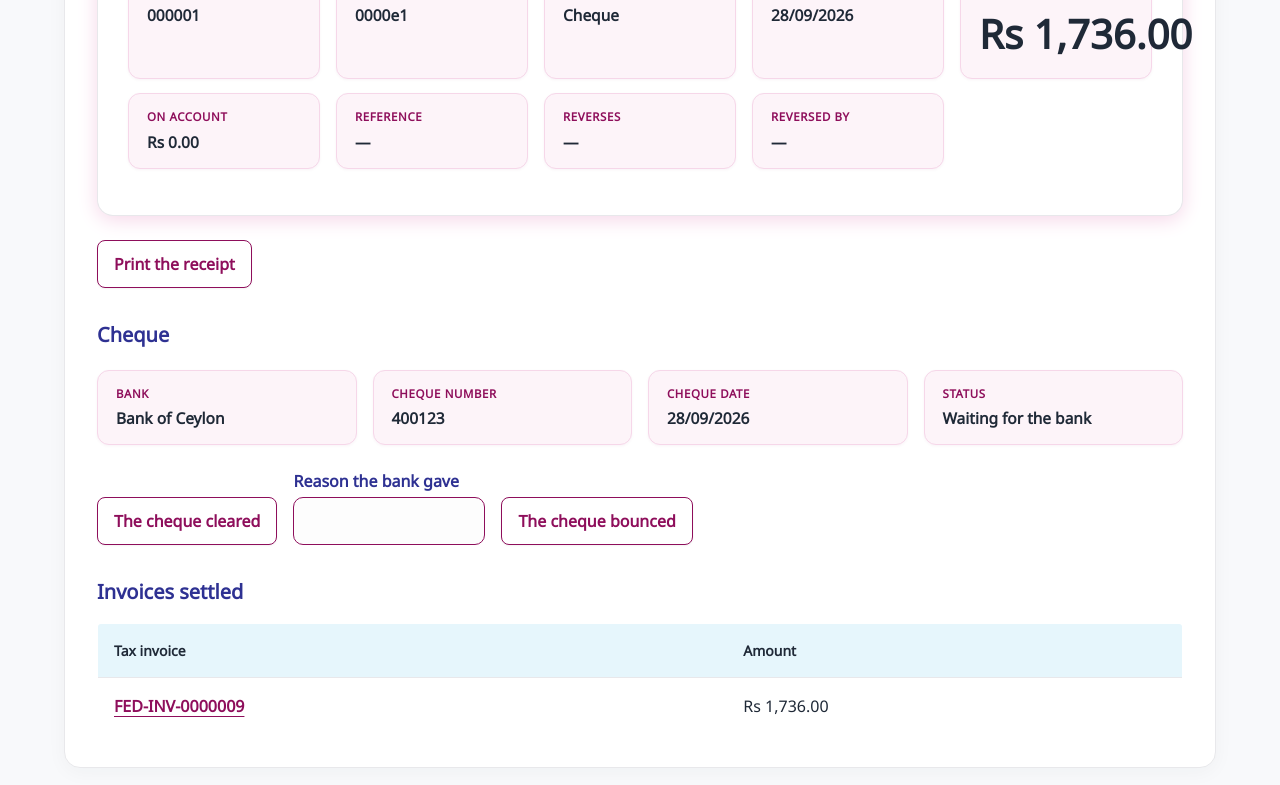
Test case: the payment receipt › lets the seller's accounts record that the cheque bounced, and then shows the reversal
The image size is (1280, 785).
(page scrolled)
Expected: the link "FED-INV-0000009" is shown, [114,695,244,717]
Type "Refer to drawer" into the field labelled "Reason the bank gave". click: (389, 521)
box: [293,497,485,545]
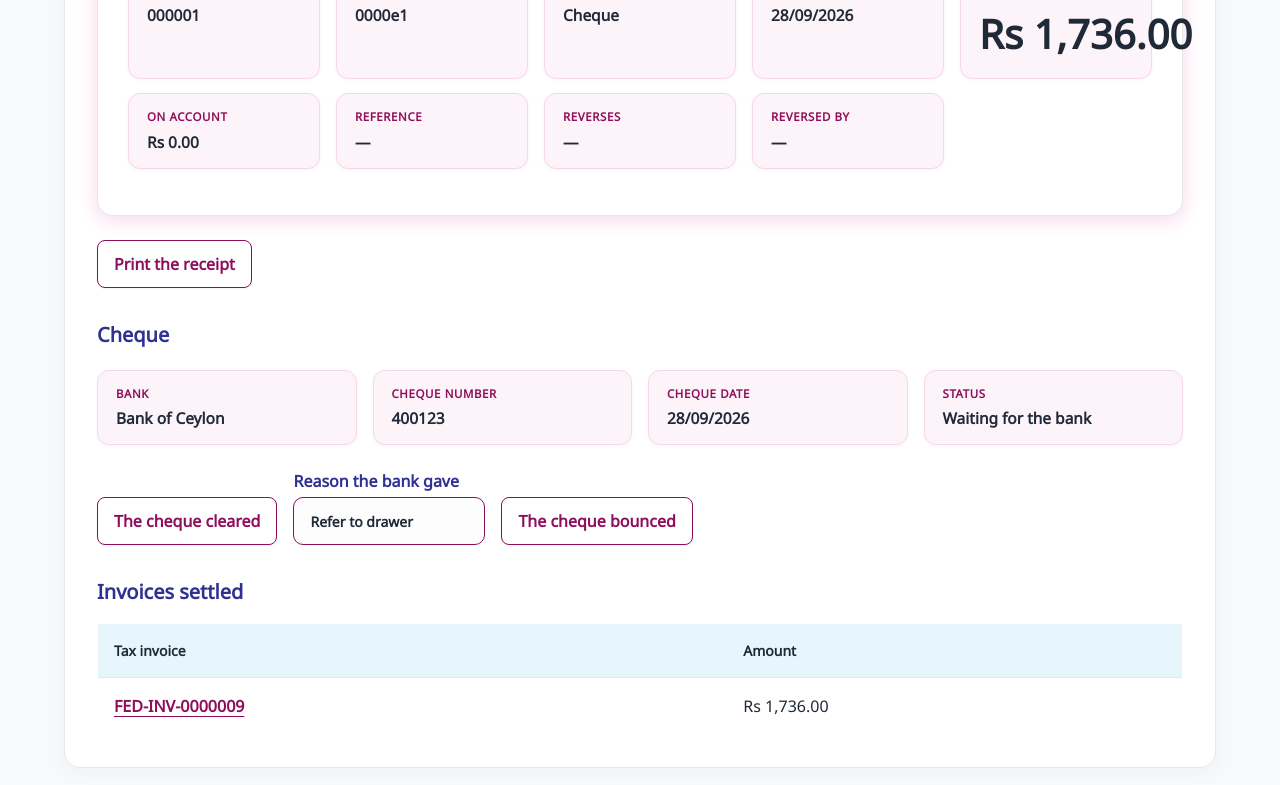
Click the button "The cheque bounced". click: (597, 521)
box: [501,497,693,545]
(page scrolled)
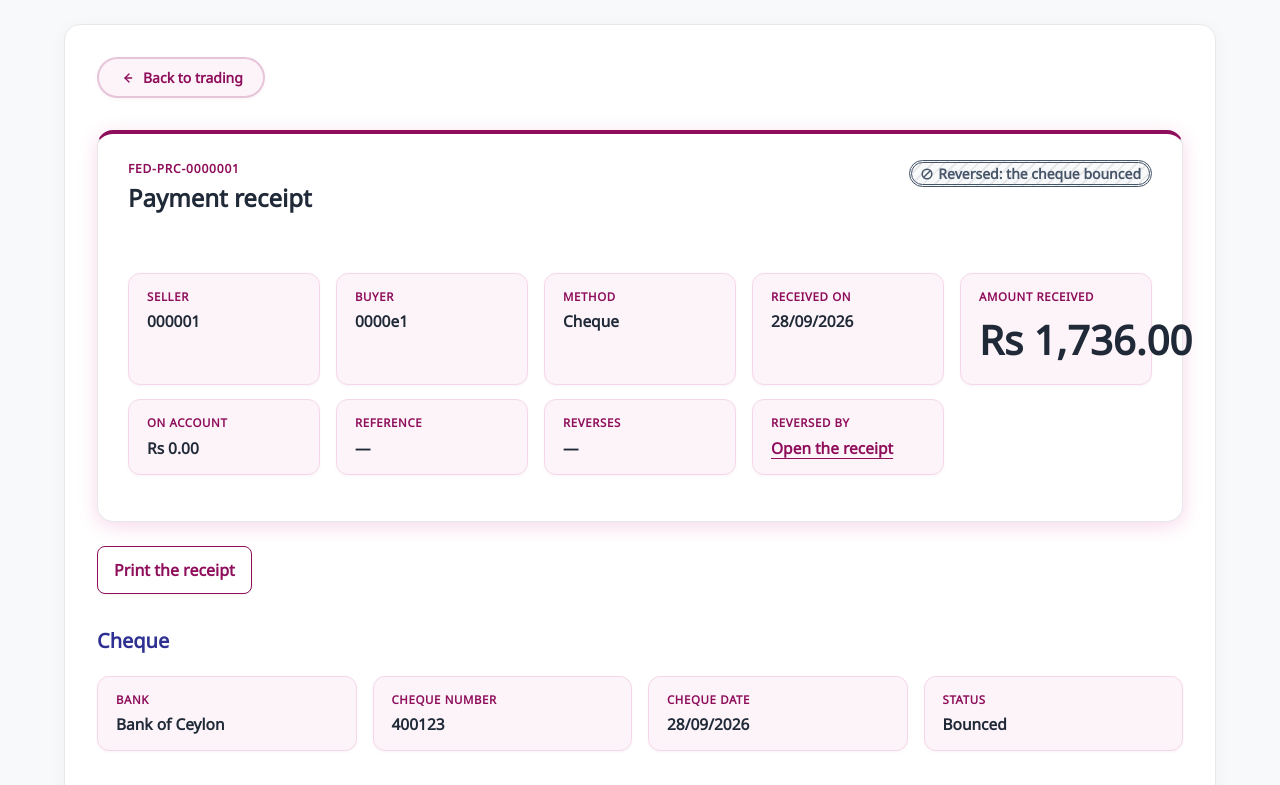
Result: the text "Reversed: the cheque bounced" is shown at [909,160,1152,187]
